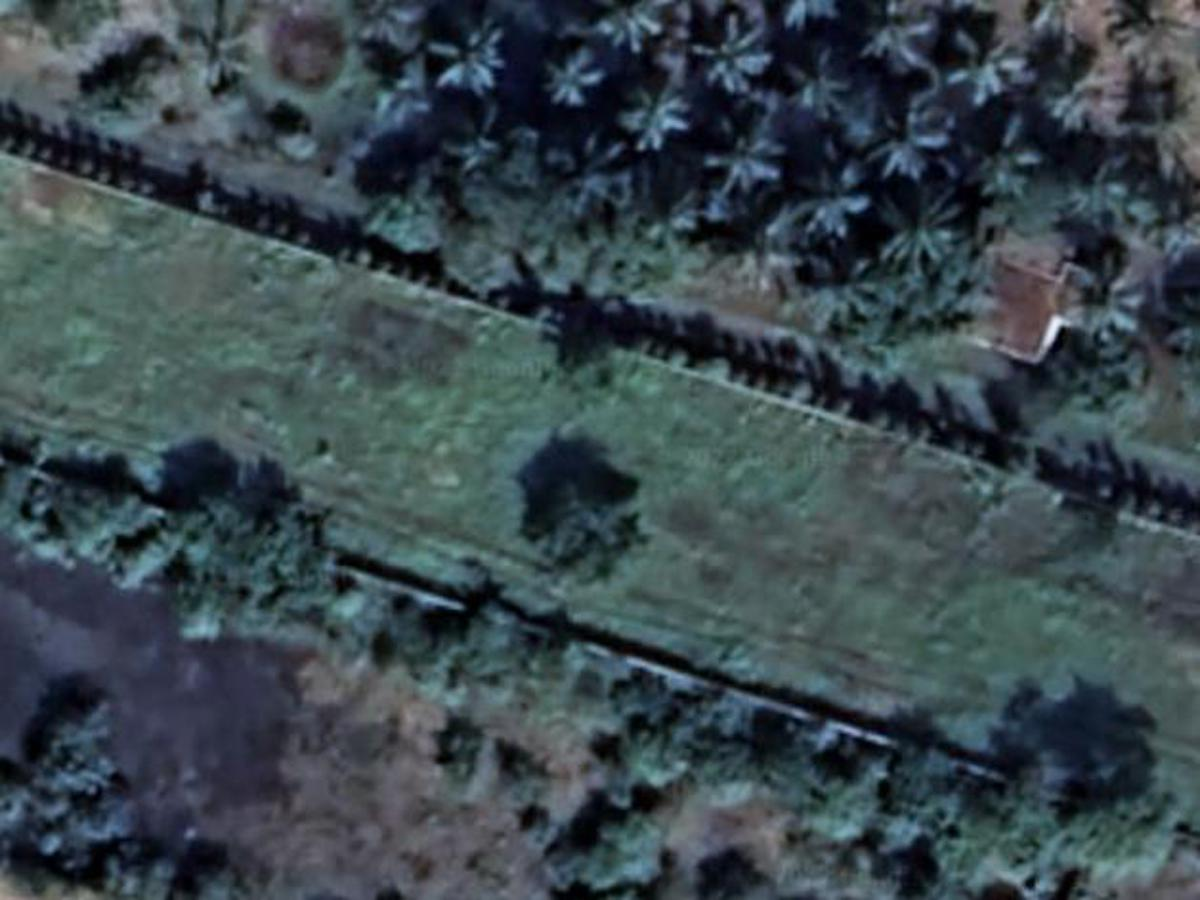coconut: (963, 116, 1050, 208), (1052, 252, 1131, 338), (886, 95, 953, 191), (621, 78, 691, 168), (798, 250, 882, 321), (429, 22, 508, 95), (804, 160, 867, 248), (703, 11, 775, 87), (875, 196, 953, 265), (951, 30, 1031, 97), (565, 128, 624, 217), (1062, 158, 1136, 227), (1115, 9, 1190, 72), (783, 57, 857, 116), (718, 126, 781, 192), (865, 3, 922, 68), (1043, 68, 1114, 120), (544, 51, 601, 114), (1144, 181, 1190, 257), (450, 108, 498, 173), (601, 3, 670, 45)
